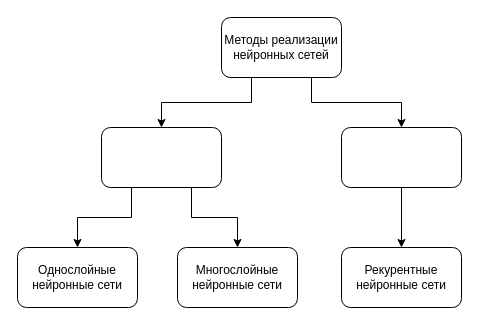
The diagram is 479 pixels wide and 325 high, and some of its shapes have lost their labels. The shapes that lost their labels are listed below. From the top down, each one's centre as x and y in pixels, then its label:
point (161, 157): Нейронные сети прямого распространения
point (401, 157): Нейронные сети с обратными связями
